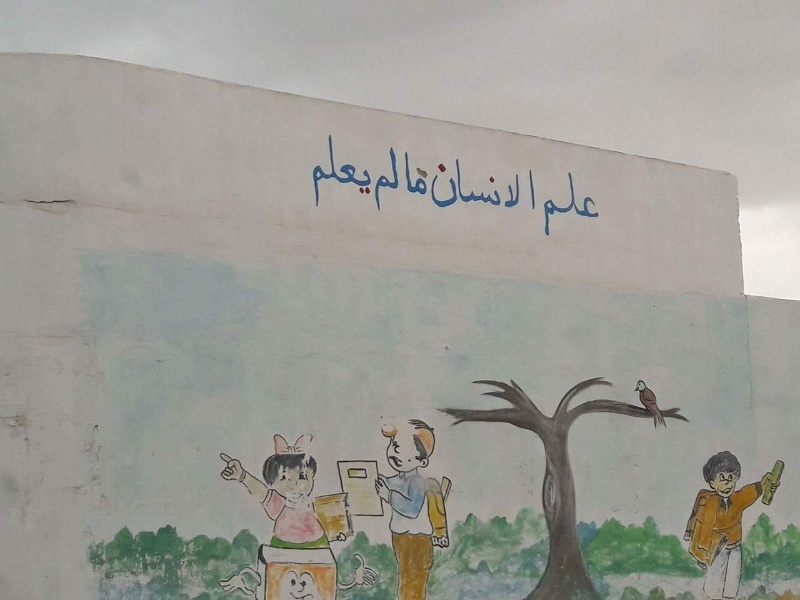text: (321, 132, 336, 215), (337, 132, 352, 215), (353, 132, 368, 215), (385, 146, 401, 214), (545, 169, 560, 239), (561, 169, 576, 239), (577, 169, 592, 239), (433, 155, 448, 219), (449, 155, 464, 219), (465, 155, 480, 219), (481, 155, 496, 219), (497, 155, 512, 219), (513, 155, 528, 219), (372, 146, 384, 214), (311, 132, 320, 215), (417, 150, 431, 197), (404, 150, 416, 197), (593, 169, 601, 239), (529, 155, 537, 219), (369, 132, 373, 215), (542, 169, 544, 239)
